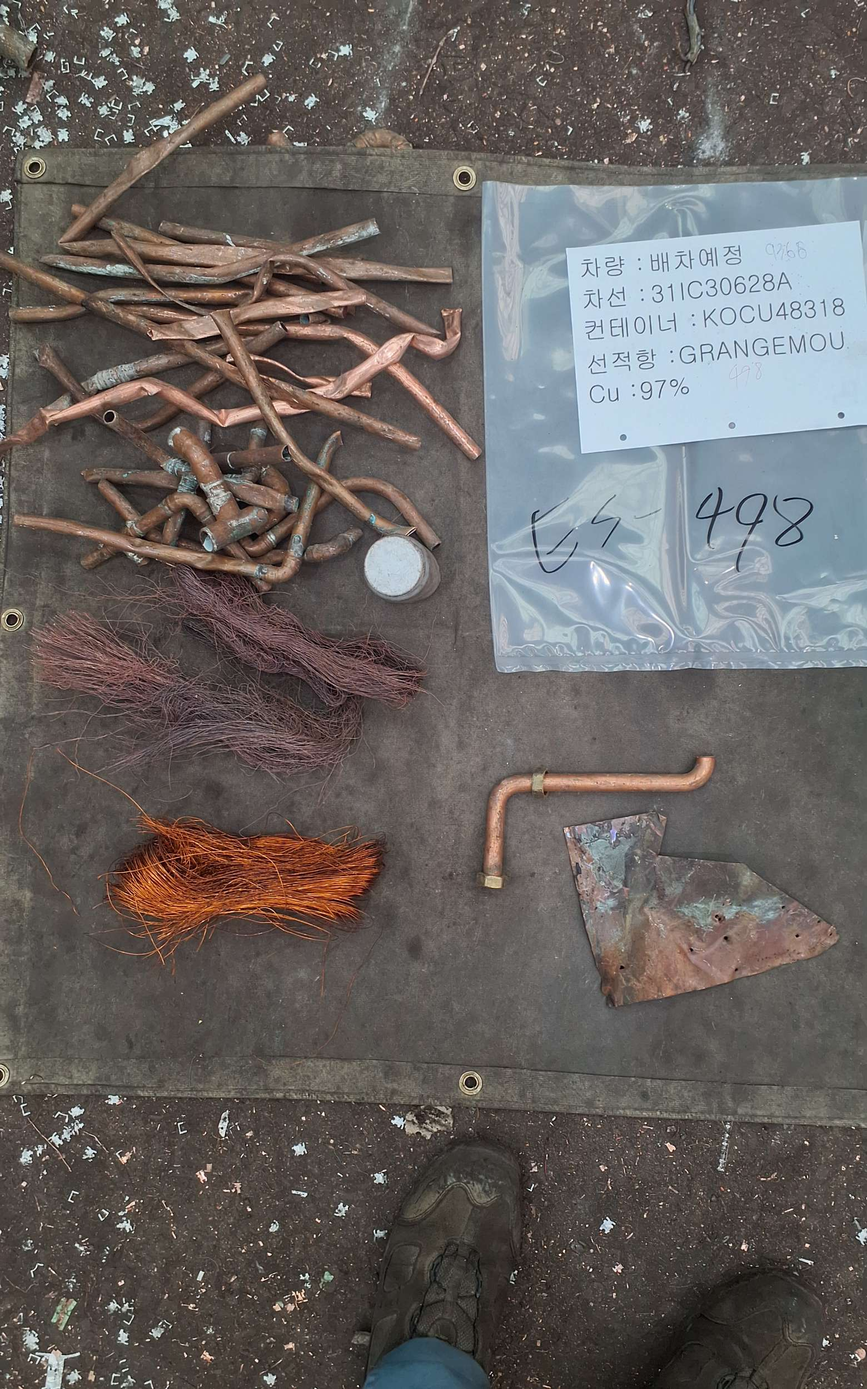Brass_Attach_70: (477, 755, 723, 890)
Copper_Plates_93: (564, 811, 841, 1008)
Thin_Enamled_Wire_89: (104, 811, 387, 958)
